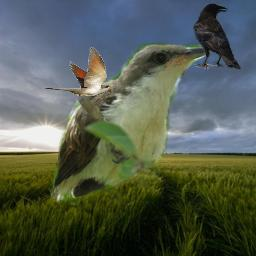Crow: (193, 3, 241, 71)
Cuckoo: (49, 42, 210, 205), (44, 47, 115, 96)
